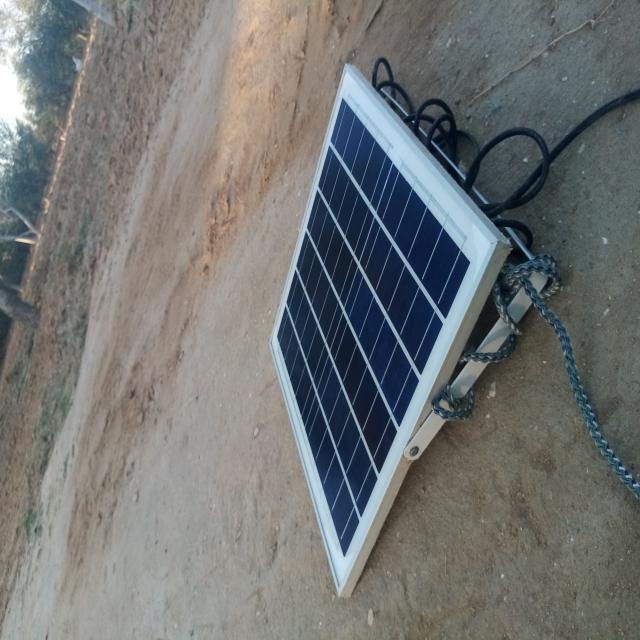no faulty: (271, 70, 498, 589)
